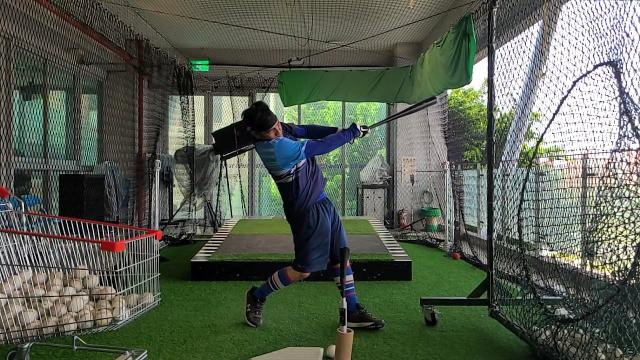bat: (368, 94, 438, 130)
